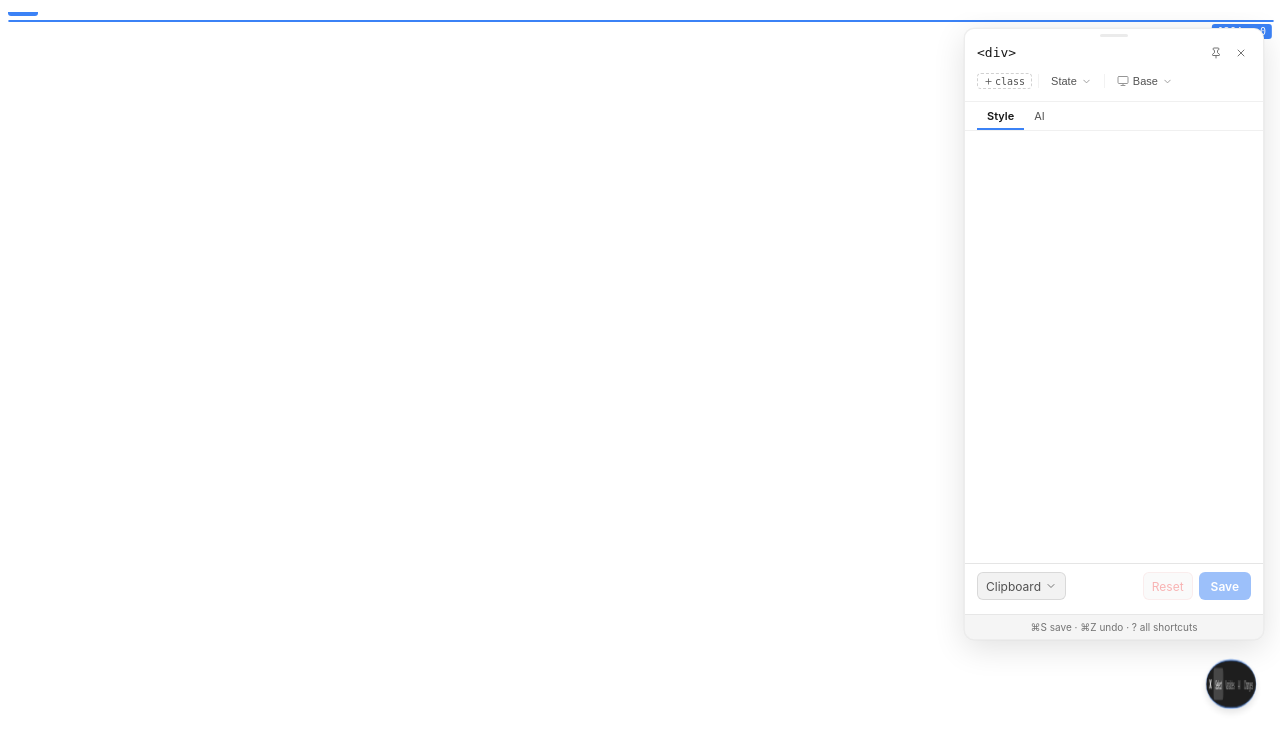
Test case: class creation UI (audit 05-class-creation) › typing a name attaches the class and makes it the active scope; edits land on it
Click the button with aria-label "Add class": (1005, 81) [977, 73, 1032, 89]
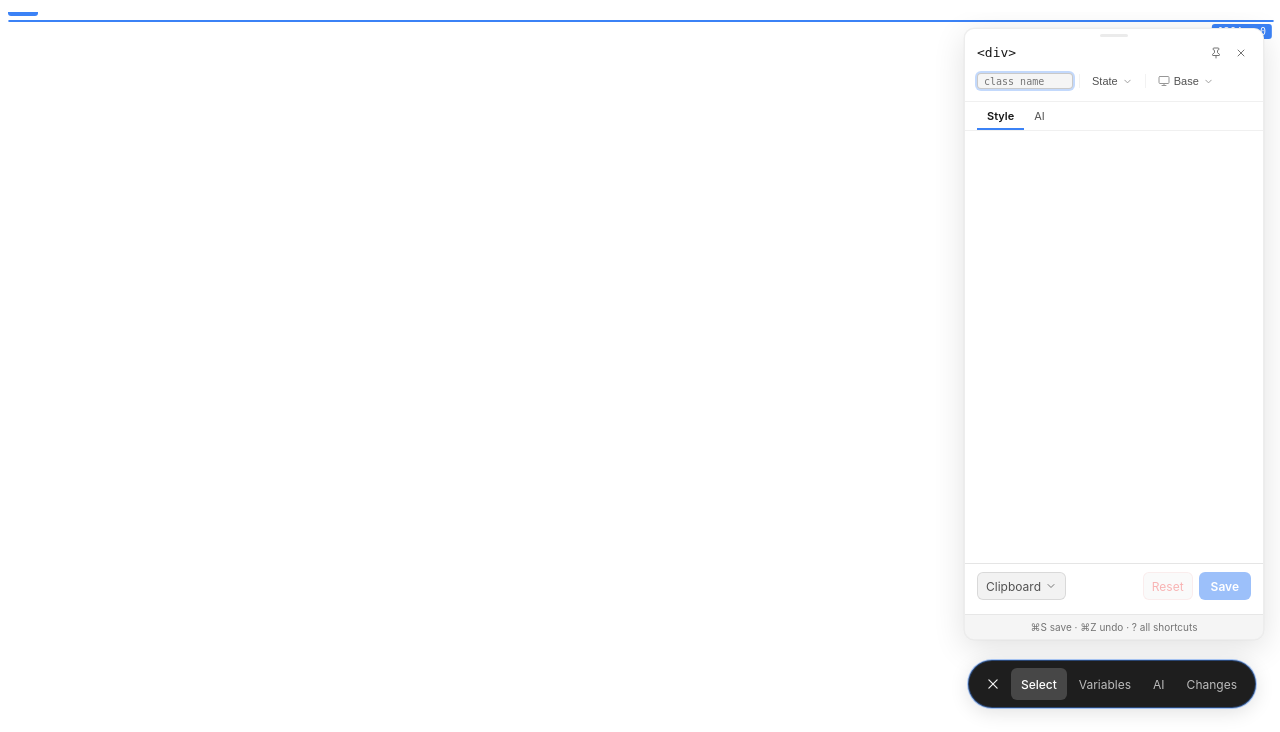
Check: the field named "New class name" is shown
In the field named "New class name": (1025, 81) [977, 73, 1073, 89], type "hero-card"
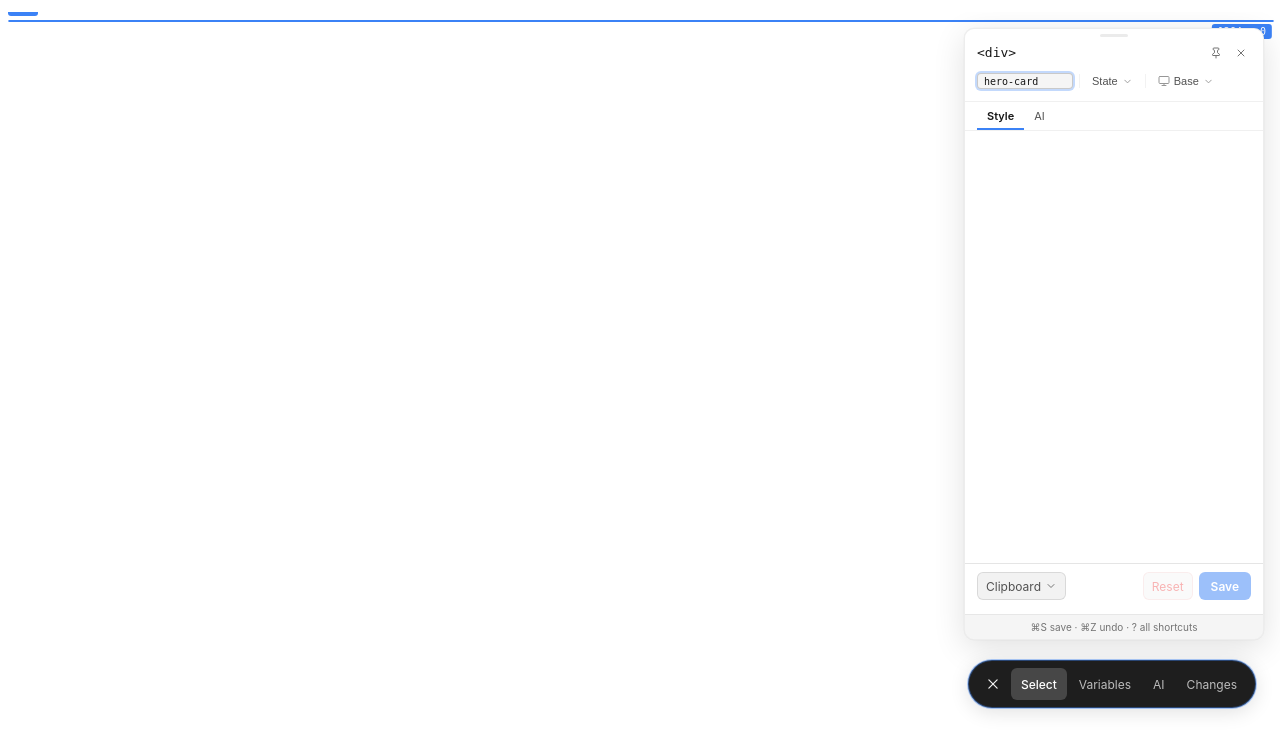
Press Enter in the field named "New class name", box [977, 73, 1073, 89]
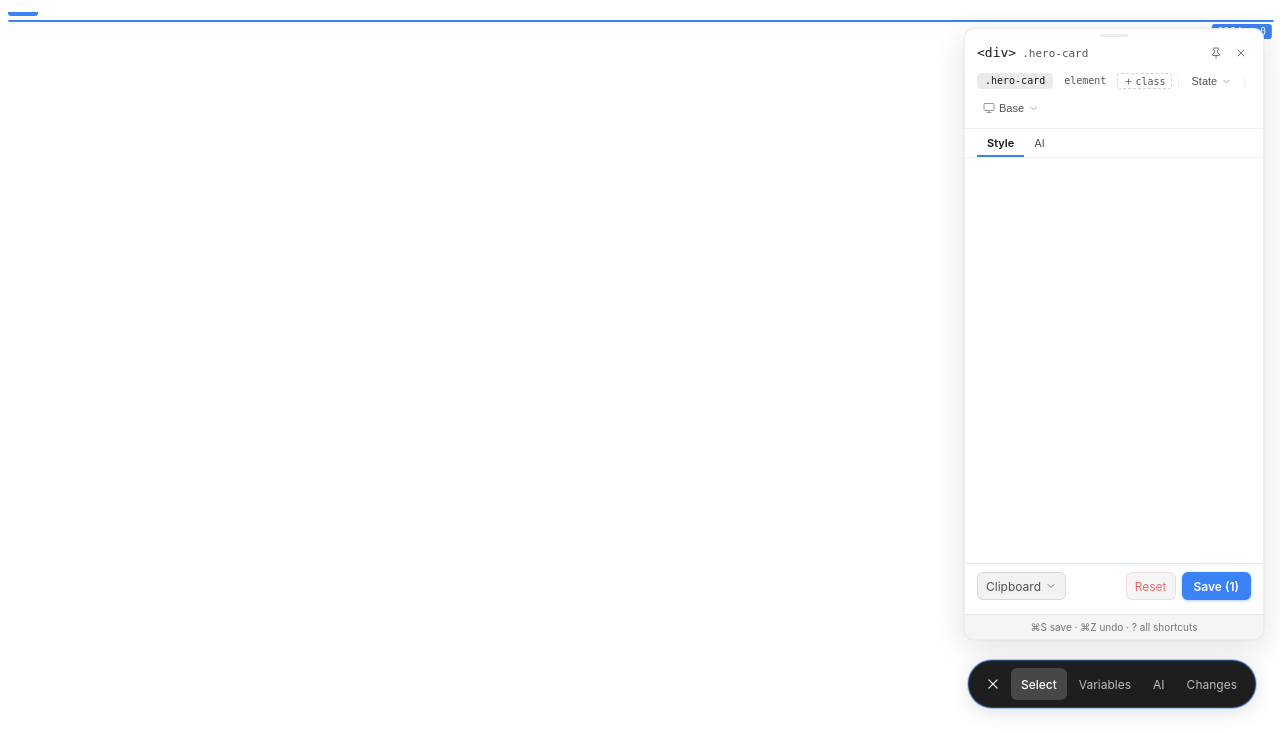
Check: the button "class" is shown, box [1117, 73, 1172, 89]
